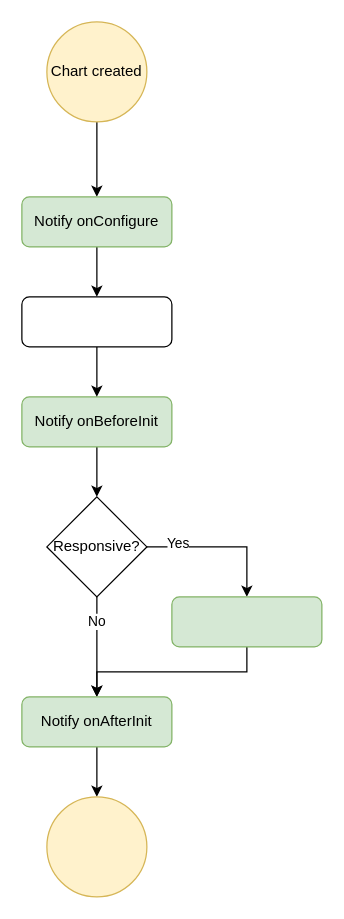
The diagram is 344 pixels wide and 919 high, and some of its shapes have lost their labels. Here are the shapes that lost their labels. From the top down, the box of each, then its label:
(21, 296, 172, 347): Create new Chart
(171, 596, 322, 647): Notify onResize
(46, 796, 147, 897): Initial update
